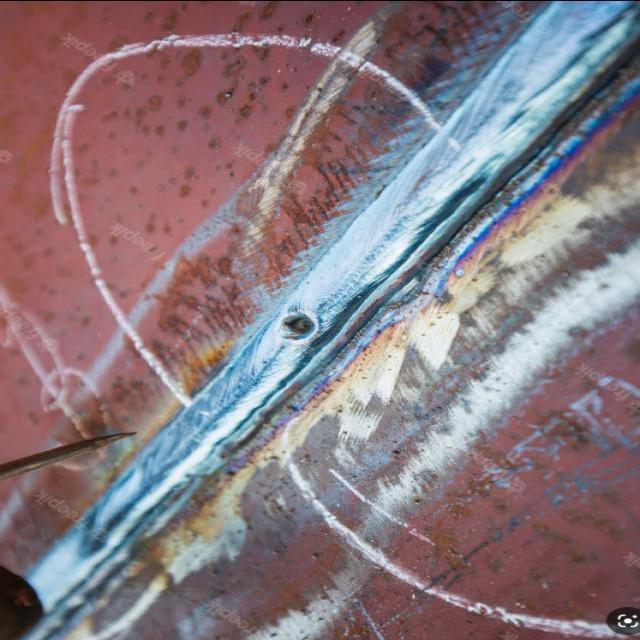defect: (281, 309, 322, 340)
